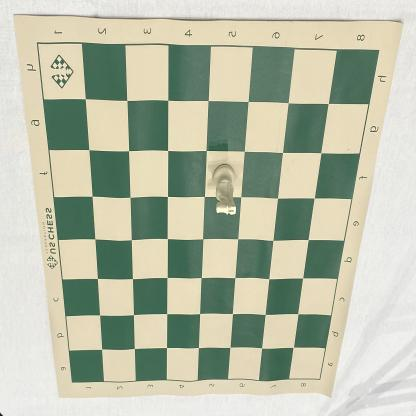white-knight: (212, 163, 237, 215)
